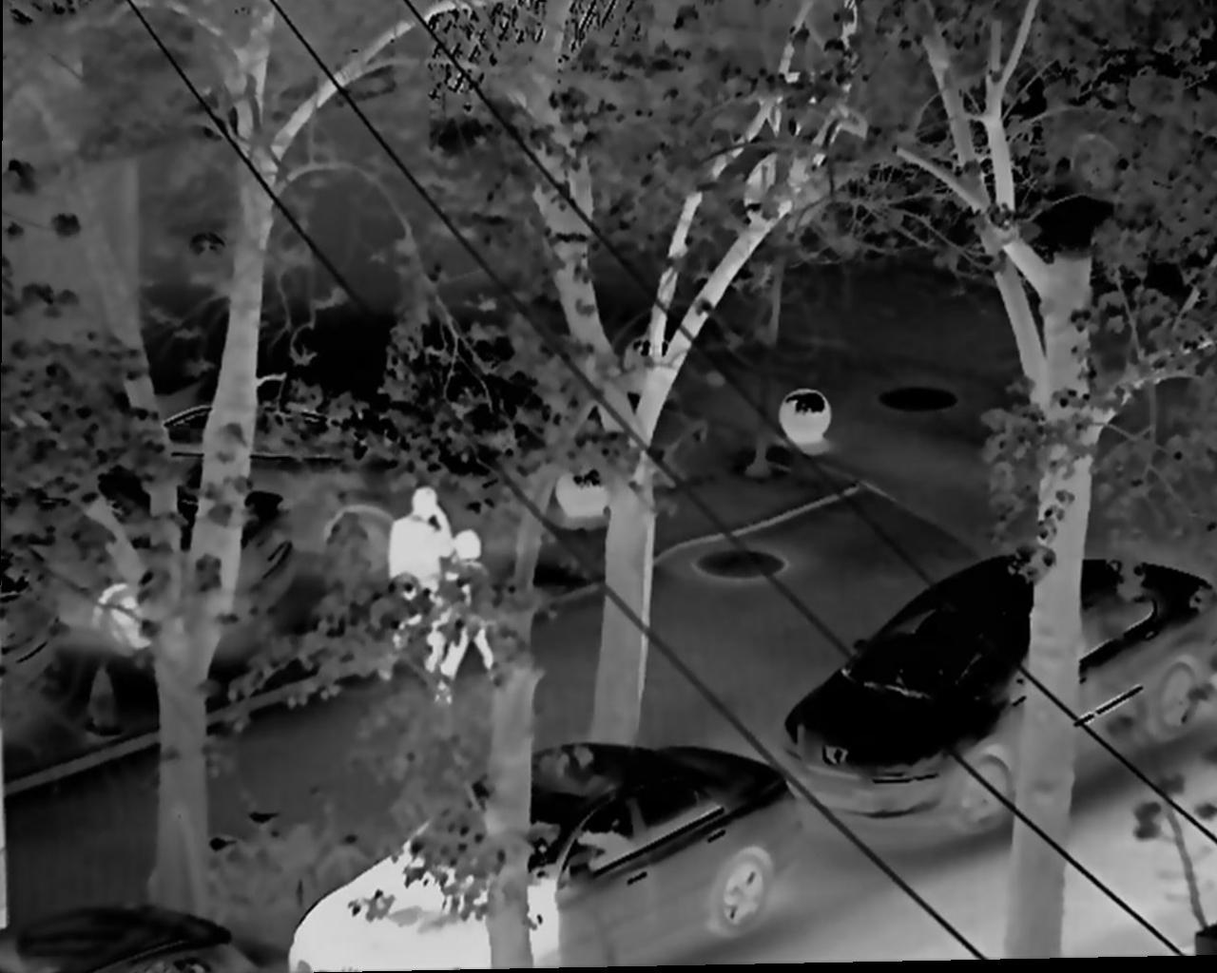person: (385, 481, 468, 658), (437, 527, 502, 707)
